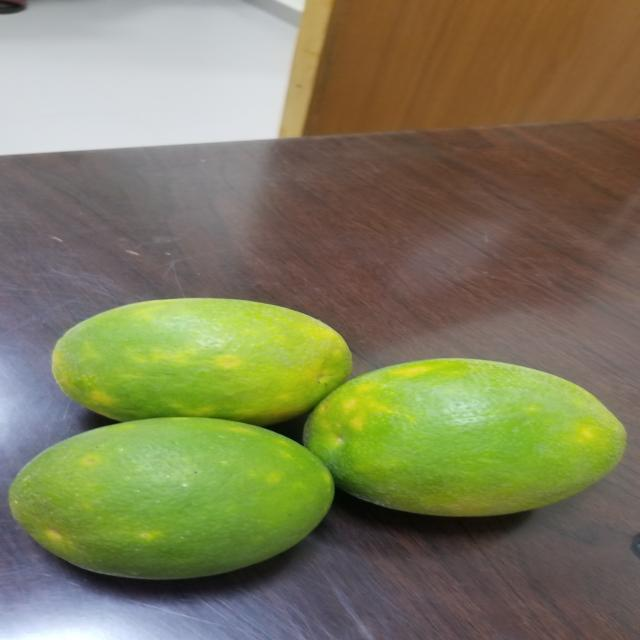Ripe orange: (297, 348, 640, 522), (10, 419, 349, 594), (43, 294, 359, 428)
